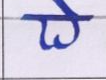e_matra: (53, 1, 81, 15)
